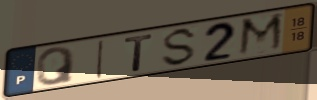2: (199, 18, 241, 66)
I: (94, 38, 107, 81)
M: (236, 10, 286, 59)
Q: (35, 45, 77, 87)
S: (159, 26, 200, 69)
T: (123, 32, 156, 73)
